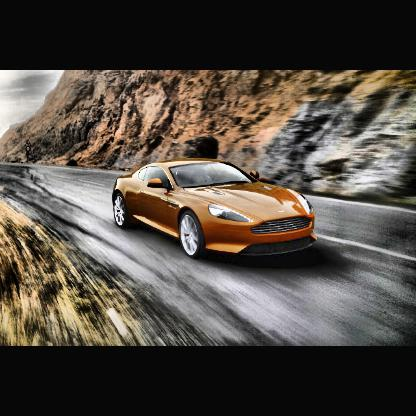Aston Martin Virage Coupe 2012: (113, 156, 323, 262)
